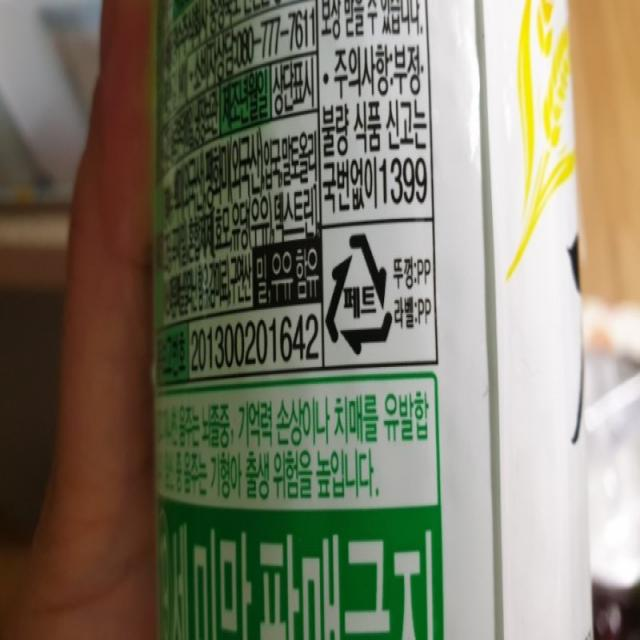PET: (326, 231, 394, 361)
